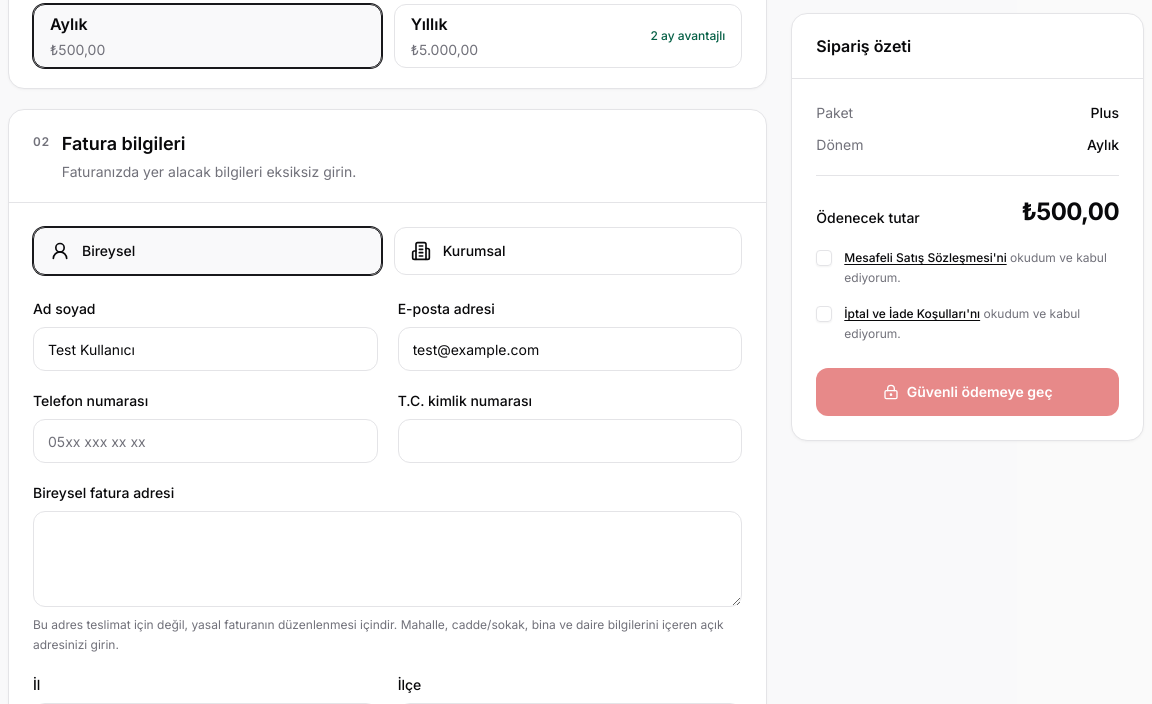
checkout flow › keeps the user on checkout when the bank connection is not configured
Earlier steps of the test are not shown.
(page scrolled)
Type "05555555555" into the field labelled "Telefon numarası" at (205, 441), box 33,419 -> 378,463
Type "11111111111" into the field labelled "T.C. kimlik numarası" at (570, 441), box 398,419 -> 742,463
Type "Test Mahallesi No: 1" into the text box labelled "Bireysel fatura adresi" at (388, 559), box 33,511 -> 742,607
(page scrolled)
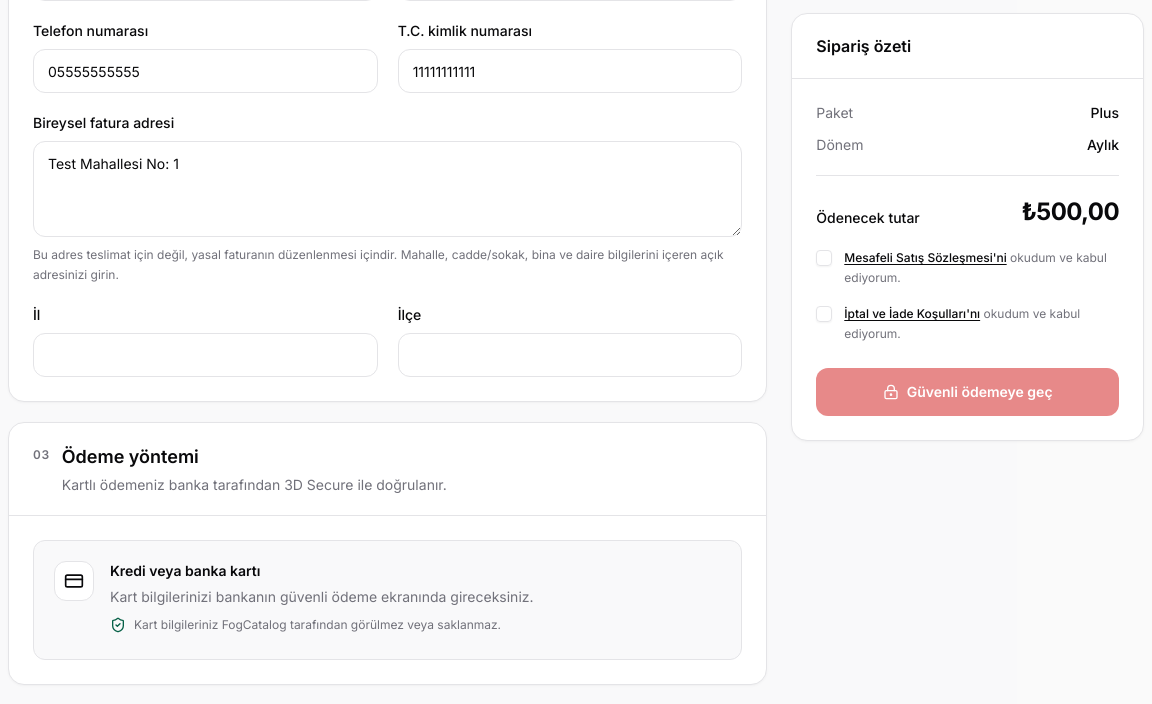
Type "Bursa" into the field labelled "İl" at (205, 355), box 33,333 -> 378,377
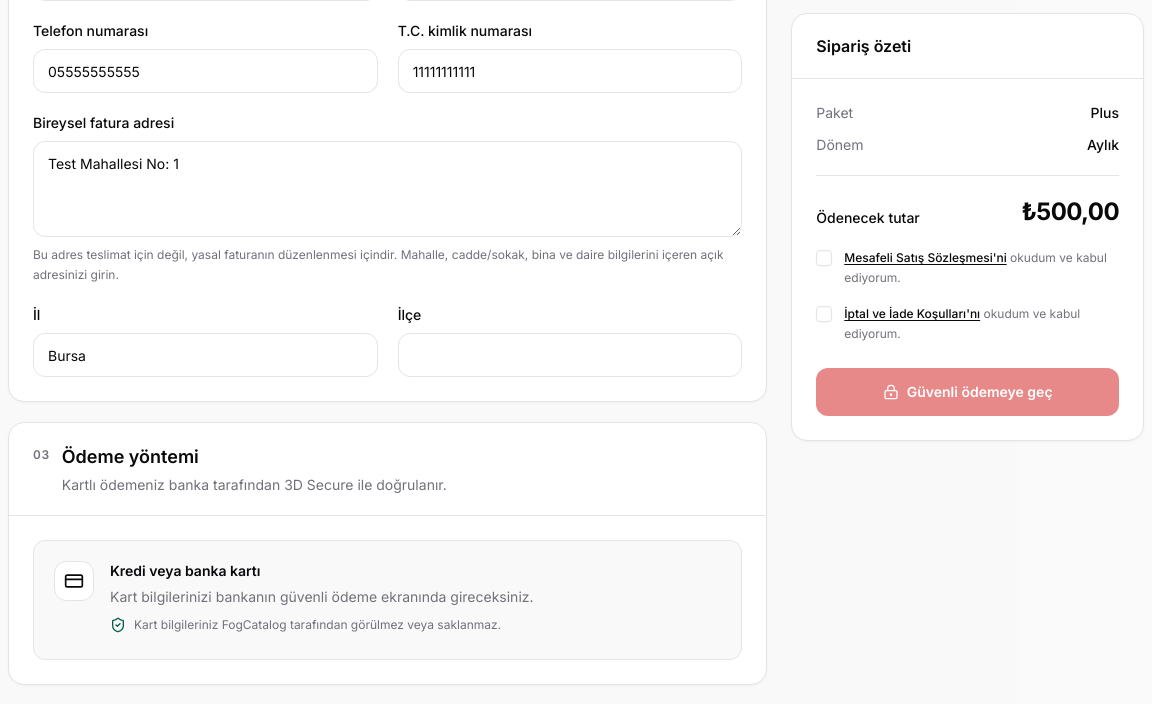
Type "Nilüfer" into the field labelled "İlçe" at (570, 355), box 398,333 -> 742,377
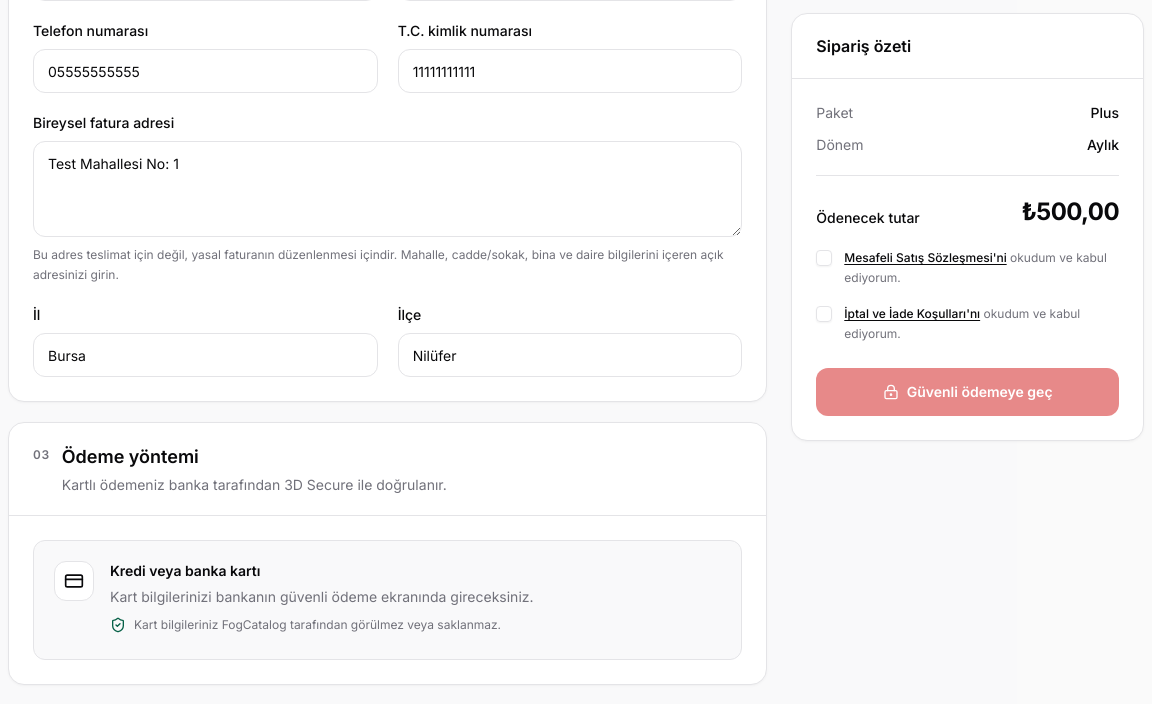
Click the checkbox named "Mesafeli Satış Sözleşmesi" next to "Mesafeli Satış Sözleşmesi'ni" at (824, 258), box 816,250 -> 832,266
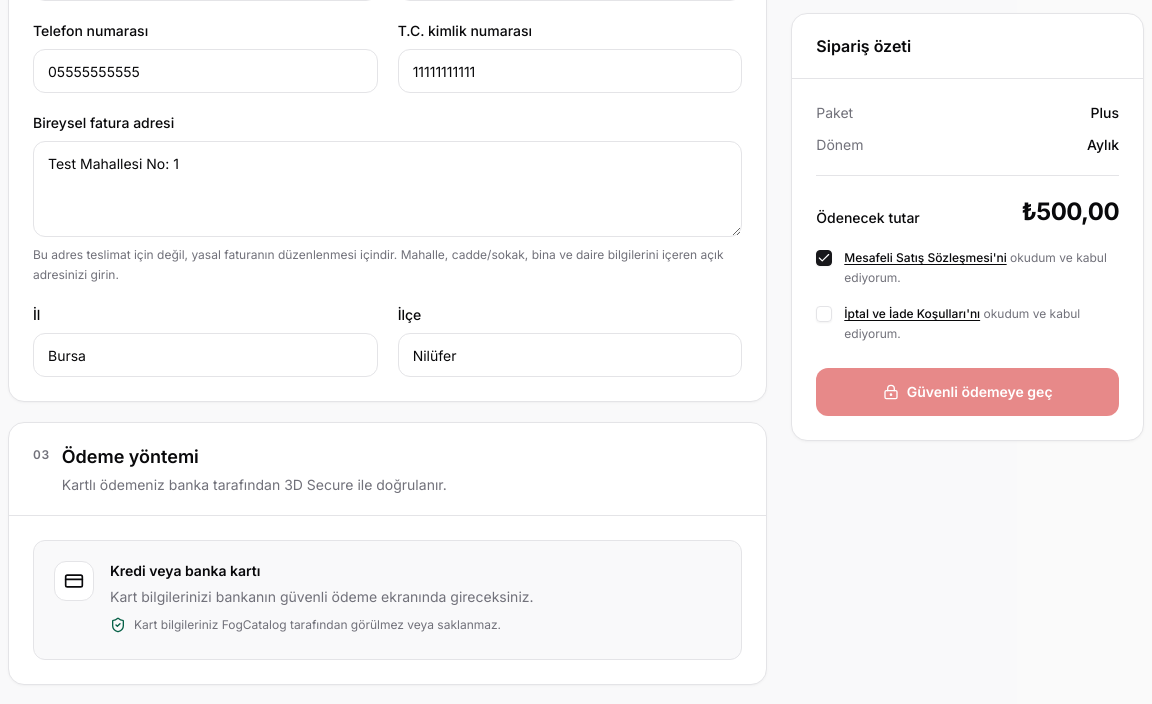
Click the checkbox named "İptal ve İade Koşulları" next to "İptal ve İade Koşulları'nı" at (824, 314), box 816,306 -> 832,322
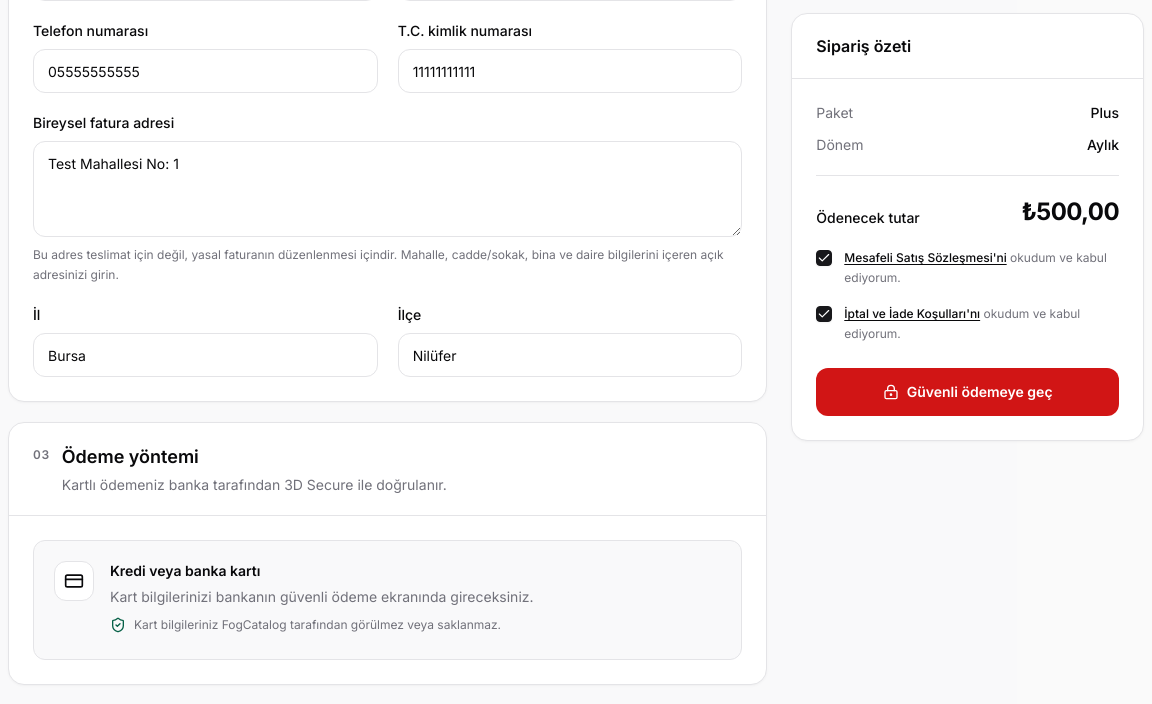
Click the button "Güvenli ödemeye geç" at (968, 392), box 816,368 -> 1119,416
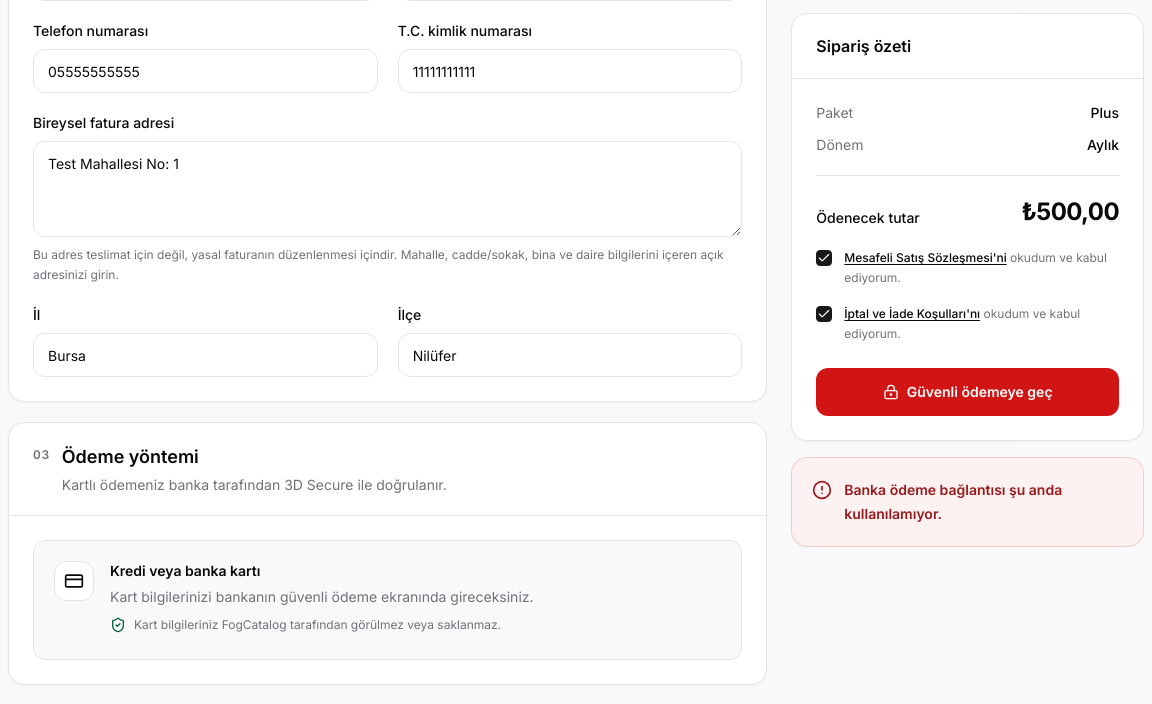
Check: the message shows "Banka ödeme bağlantısı şu anda kullanılamıyor", box 844,481 -> 1062,522
